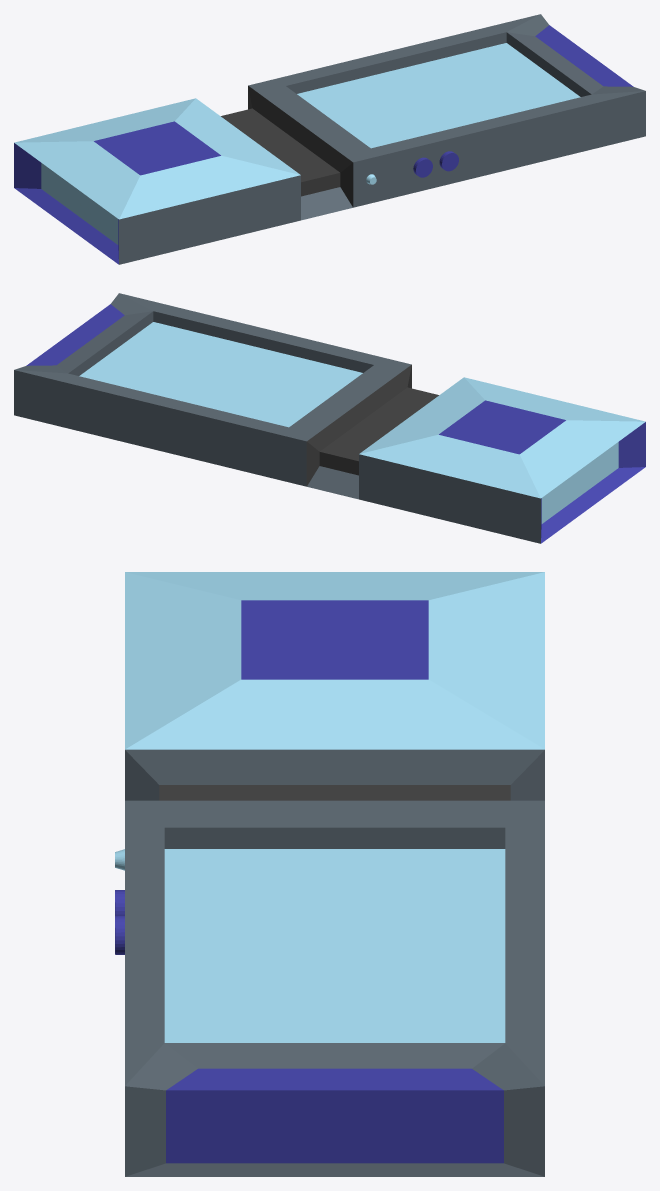
The model's file is ScanCardColor.glb.
The picture shows the model from 3 angles, top to bottom: view 1: azimuth 30°, elevation 25°; view 2: azimuth 150°, elevation 25°; view 3: azimuth 270°, elevation 25°; orthographic projection. The views are drawn at different scales.
Parts seen in each view (by area): view 1: Cube; view 2: Cube; view 3: Cube.
Boxes of the visible parts, x1=… form: Cube: x1=14, y1=14, x2=645, y2=264; Cube: x1=14, y1=293, x2=645, y2=543; Cube: x1=115, y1=572, x2=544, y2=1176.
Size of the model in its own units: 5.79 by 0.586 by 2.05.
1 material, 1 textured.
